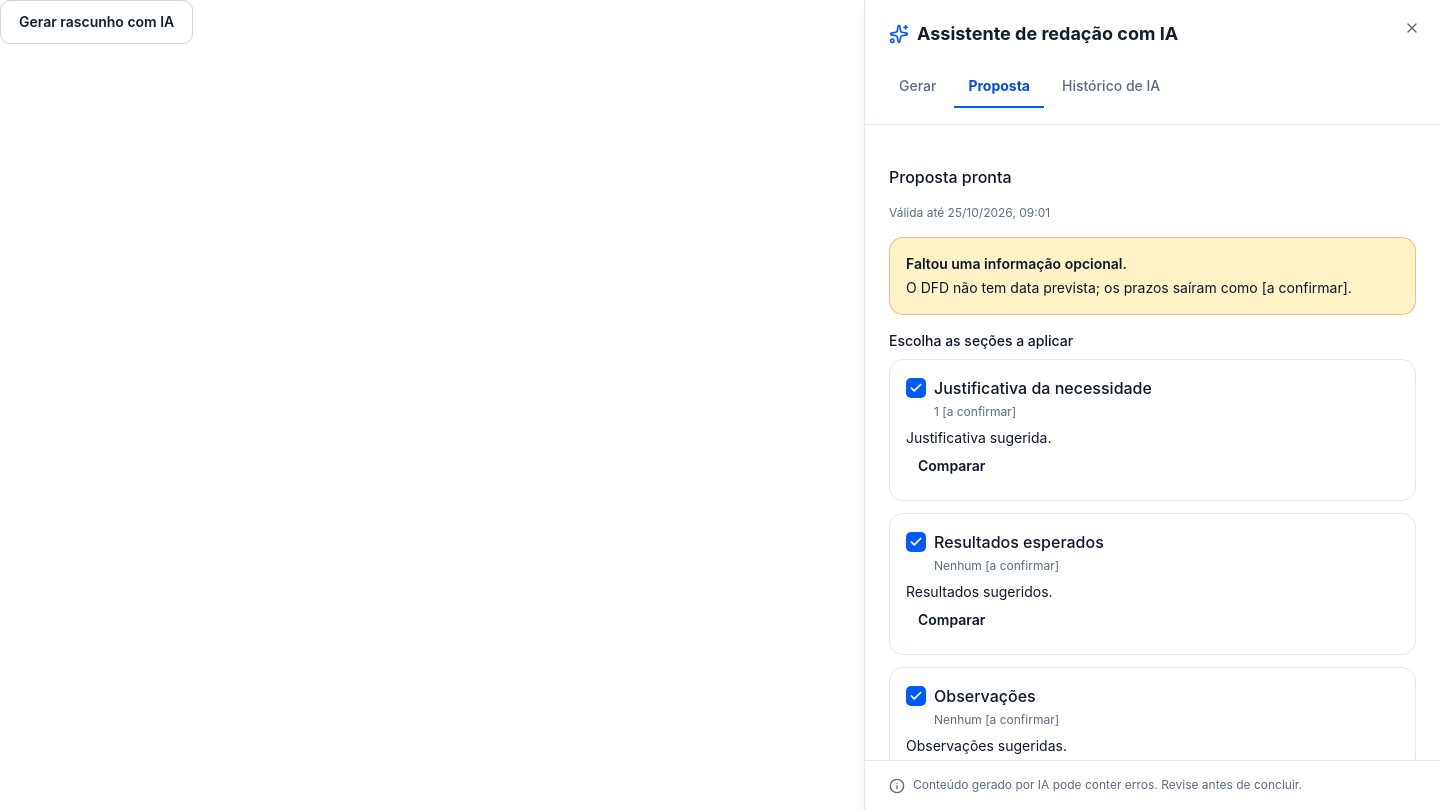
Test: SCR-117 — aplicar a proposta do DFD (US-117) › DFD alterado (412): recarrega o documento, mantém a seleção e pede para aplicar de novo (FA-05)
Expected: the element "Escolha as seções a aplicar" is shown, [889,331,1416,760]
Click the 3rd checkbox named "Observações" at (916, 696), box [906,686,926,706]
(page scrolled)
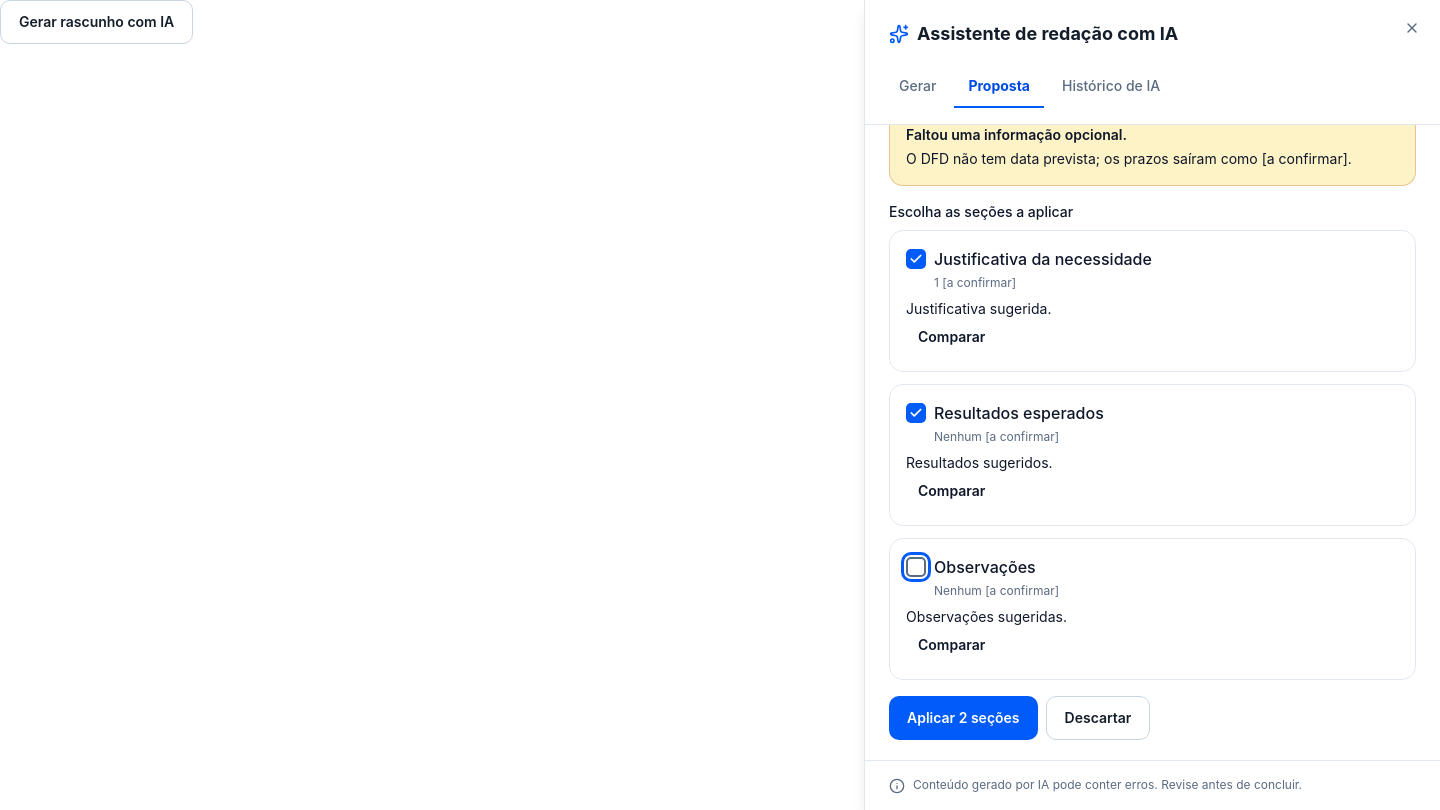
Click the button "Aplicar 2 seções" at (963, 718), box [889,696,1038,740]
(page scrolled)
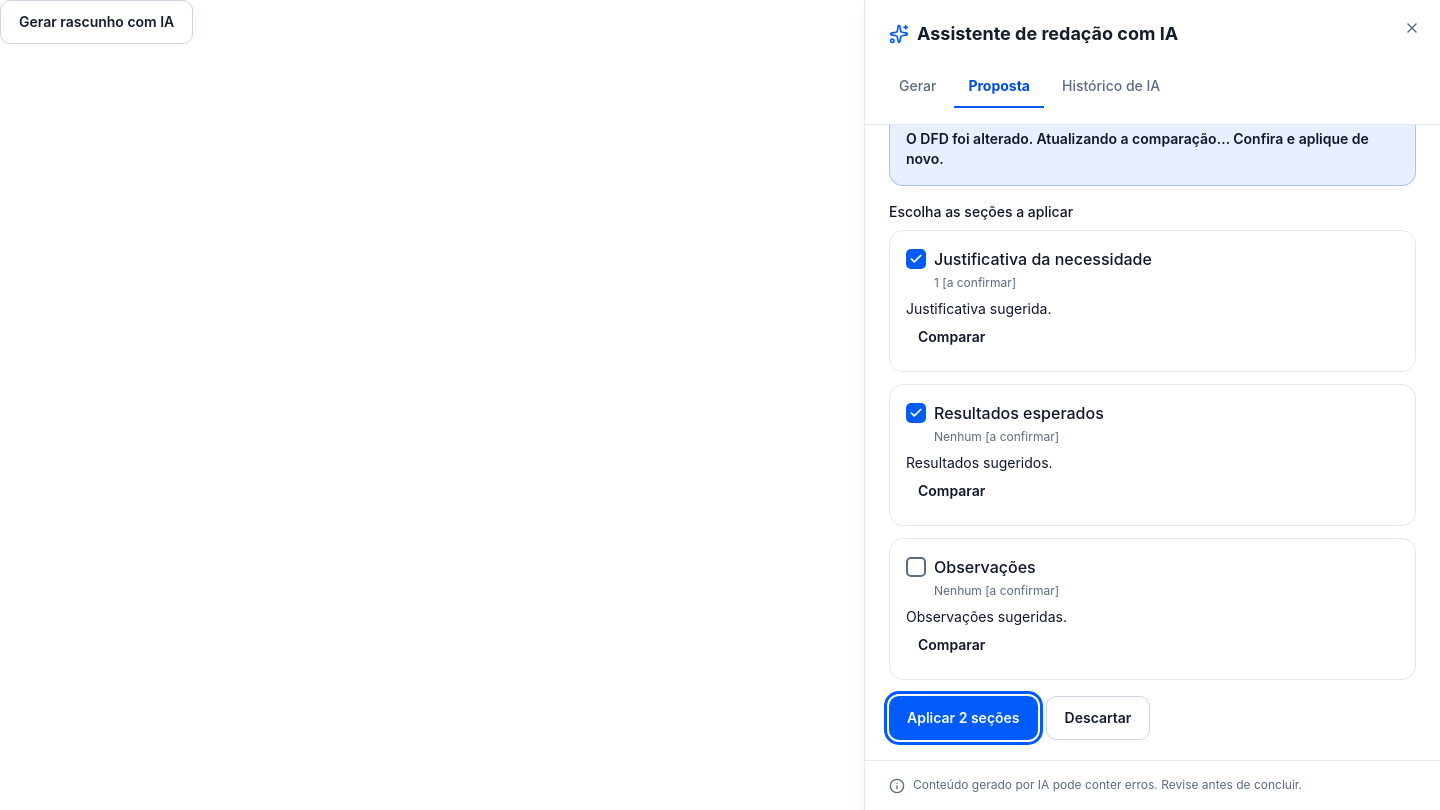
Expected: the button "Aplicar 2 seções" is shown, [889,696,1038,740]
Expected: the text "O DFD foi alterado" is shown, [906,130,1369,167]
